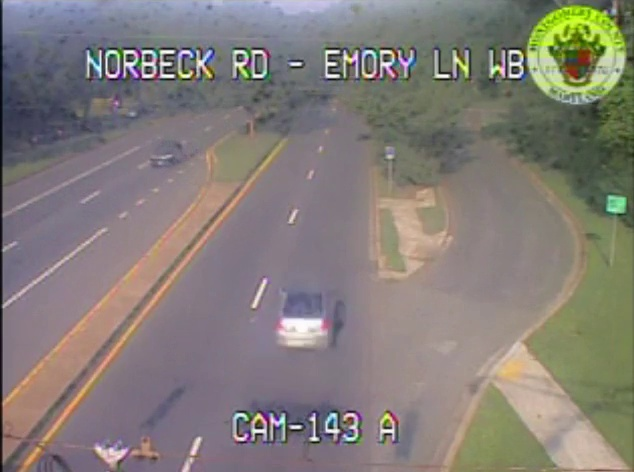car: (275, 287, 330, 349)
